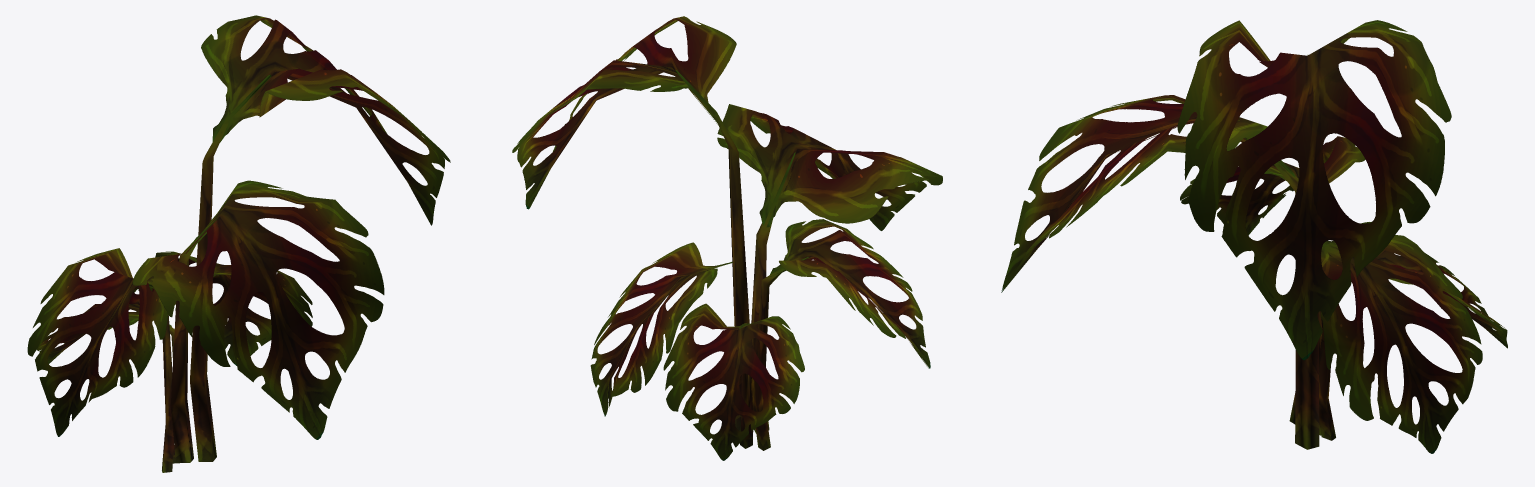
File: Foliage01(2SideLeafs).fbx
3 views of the same model, side by side, from view 1: azimuth 30°, elevation 25°; view 2: azimuth 150°, elevation 25°; view 3: azimuth 270°, elevation 25° (orthographic). The views are drawn at different scales.
Visible parts, largest first — view 1: PlantFoliage02(2SideLeave); view 2: PlantFoliage02(2SideLeave); view 3: PlantFoliage02(2SideLeave).
Boxes of the visible parts, <box> form: PlantFoliage02(2SideLeave): <box>27,15,450,472</box>; PlantFoliage02(2SideLeave): <box>512,16,942,460</box>; PlantFoliage02(2SideLeave): <box>1001,20,1507,453</box>.
Size of the model in its own units: 112 by 103 by 107.
